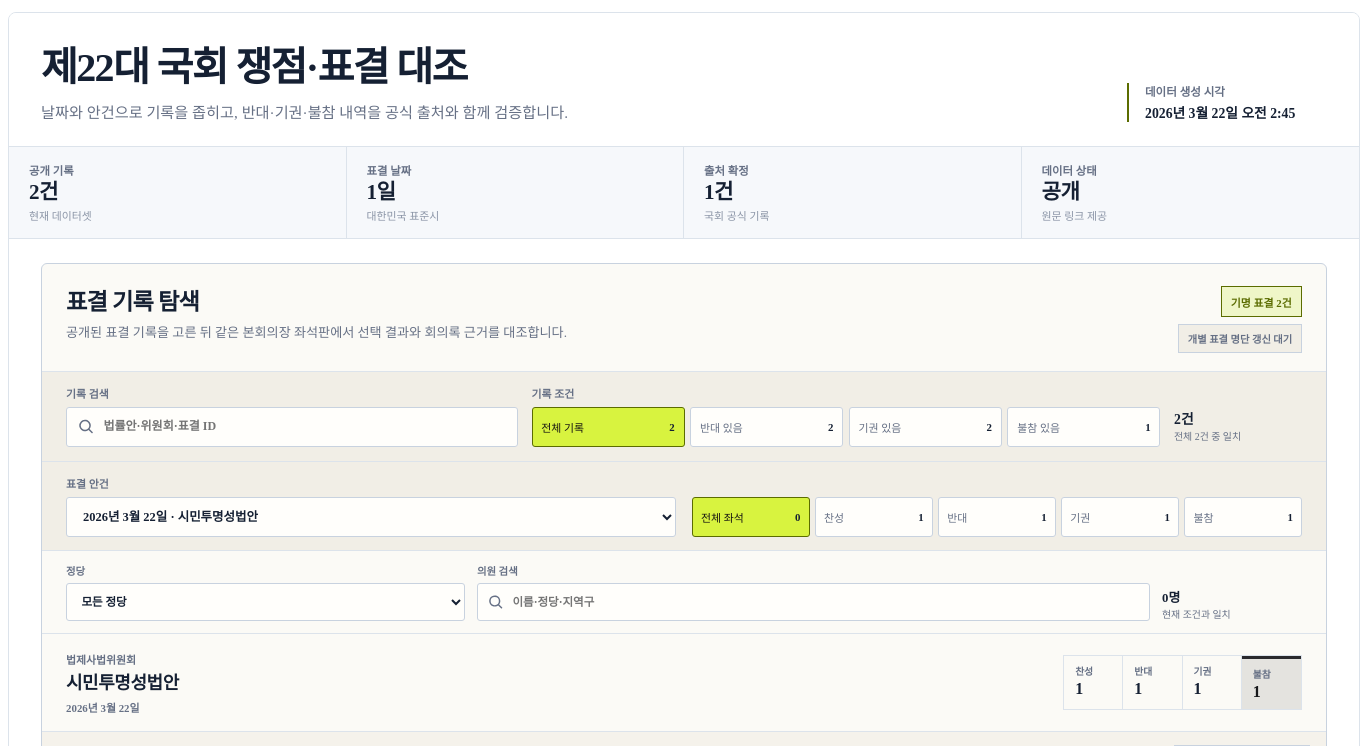
evidence exploration pages › filters vote records while preserving official evidence links
Expected: the heading "표결 기록 탐색" is shown, [66,289,199,315]
Expected: the heading "시민투명성법안" is shown, [66,673,179,693]
Type "예산" into the search field labelled "기록 검색". click: x=304, y=427
box: [101,418,506,435]
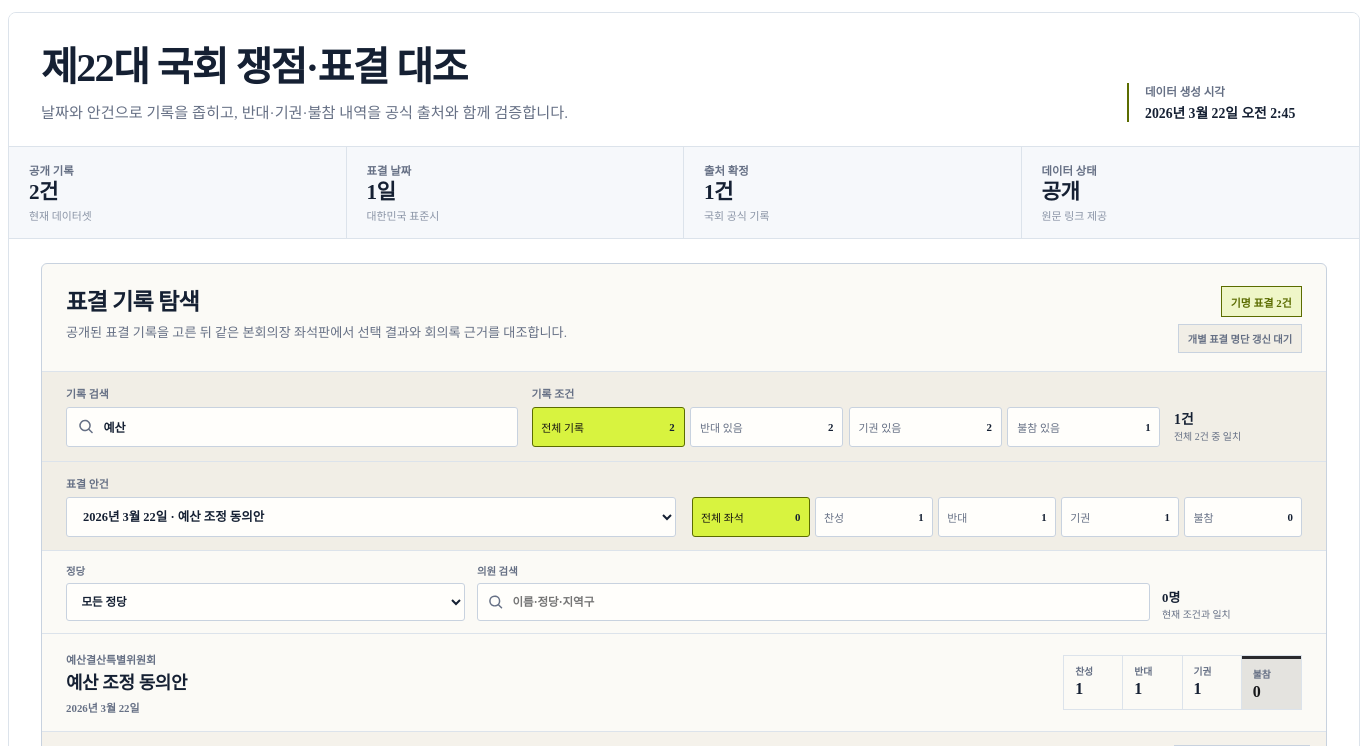
Expected: the heading "시민투명성법안" is not shown
Expected: the heading "예산 조정 동의안" is shown, [66,673,187,693]
Clear the search field labelled "기록 검색". click: x=304, y=427
box: [101,418,506,435]
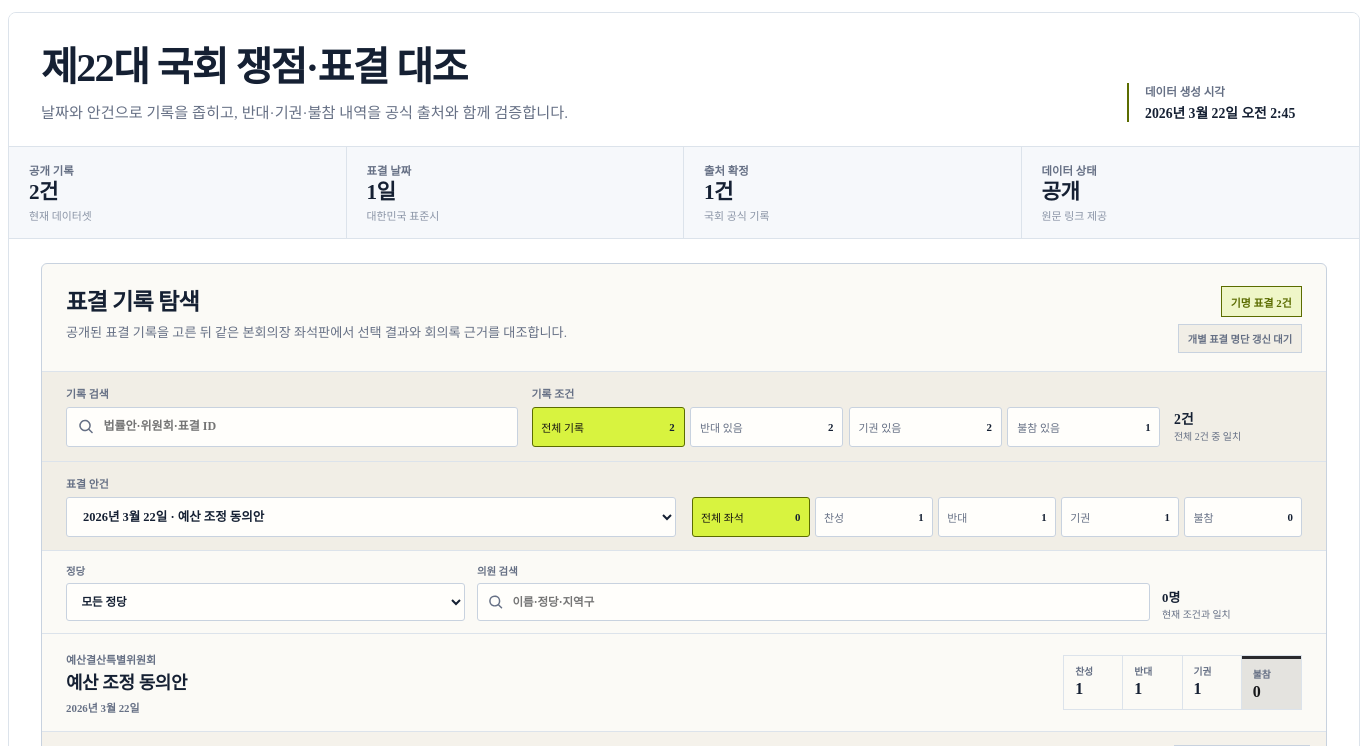
Click the button "불참 있음 1". click: x=1084, y=427
box: [1007,407,1160,447]
(page scrolled)
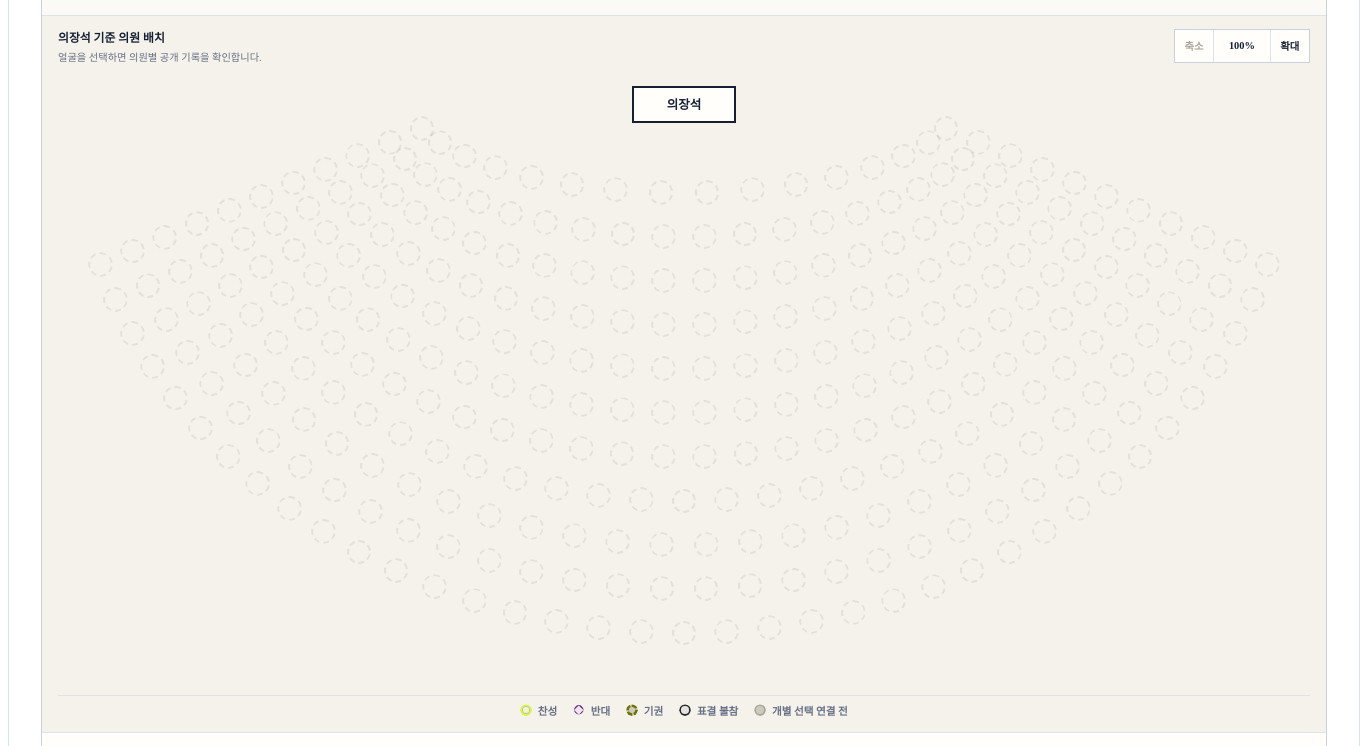
Expected: the heading "예산 조정 동의안" is not shown
Expected: the element named "시민투명성법안 본회의장 좌석 시각화" is shown
